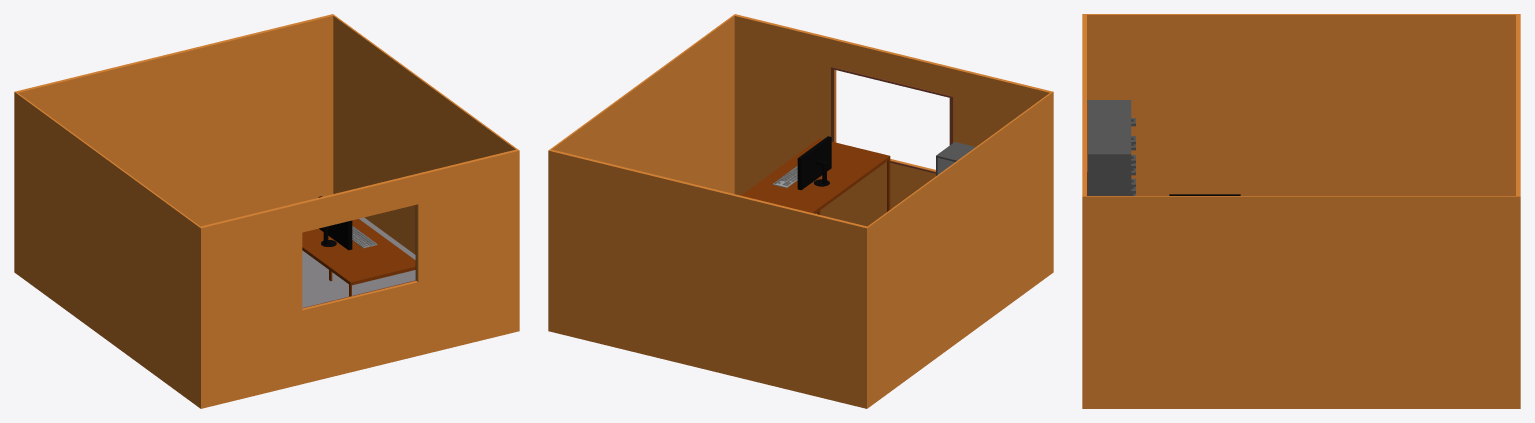
The model's file is Habitacion.fbx.
The picture shows the model from 3 angles, left to right: view 1: azimuth 30°, elevation 25°; view 2: azimuth 150°, elevation 25°; view 3: azimuth 270°, elevation 25°; orthographic projection. The views are drawn at different scales.
Visible parts, largest first — view 1: Habitacion, Mesa, Pantalla; view 2: Habitacion, Mesa, Pantalla, Marco, Archiveros; view 3: Habitacion, Archiveros.
Boxes of the visible parts, left/top/right/bottom form: Habitacion: left=14, top=14, right=519, bottom=408; Mesa: left=302, top=219, right=415, bottom=296; Pantalla: left=318, top=196, right=352, bottom=250; Habitacion: left=548, top=14, right=1053, bottom=408; Mesa: left=741, top=138, right=890, bottom=214; Pantalla: left=797, top=136, right=831, bottom=190; Marco: left=831, top=66, right=953, bottom=173; Archiveros: left=936, top=142, right=975, bottom=175; Habitacion: left=1082, top=14, right=1520, bottom=408; Archiveros: left=1087, top=100, right=1135, bottom=195.
Bounding box in the file's own units: 3089 × 1672 × 3131.
